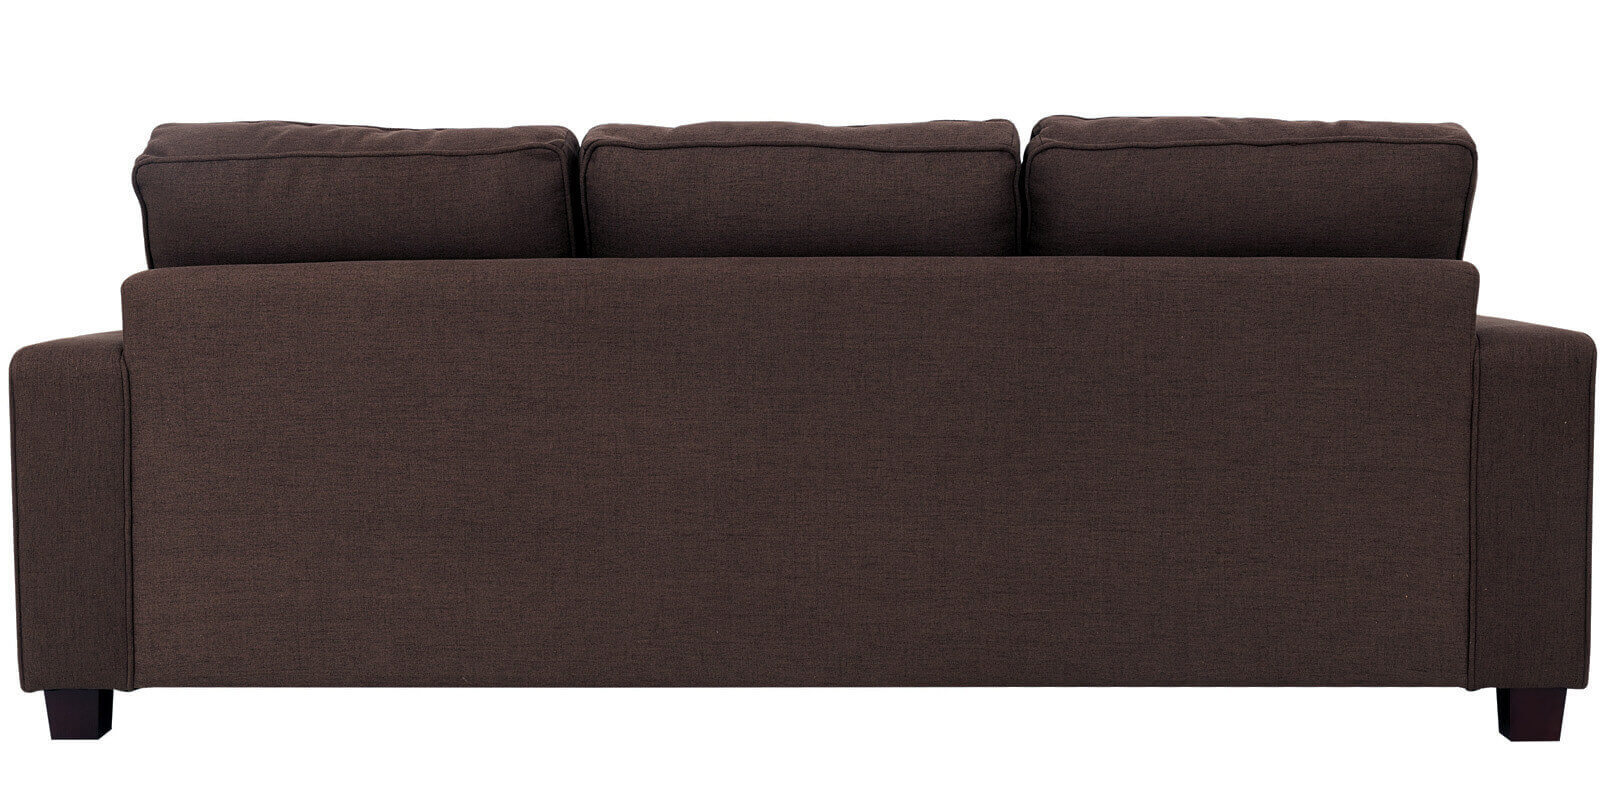Castilla Three Seater Sofa in Brown Colour by CasaCraft: (12, 76, 1600, 754)
